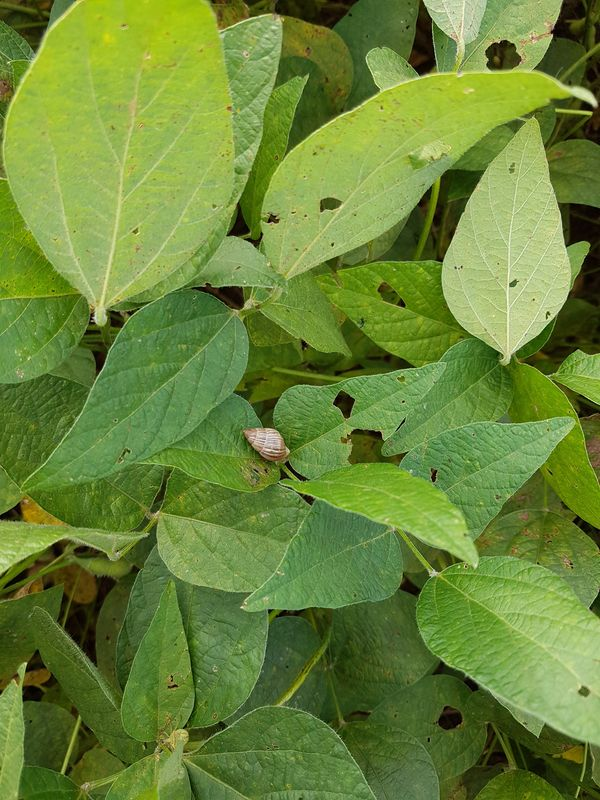Euschistus_heros_ninfa: (156, 717, 197, 756)
Gastropoda: (232, 418, 301, 471)
